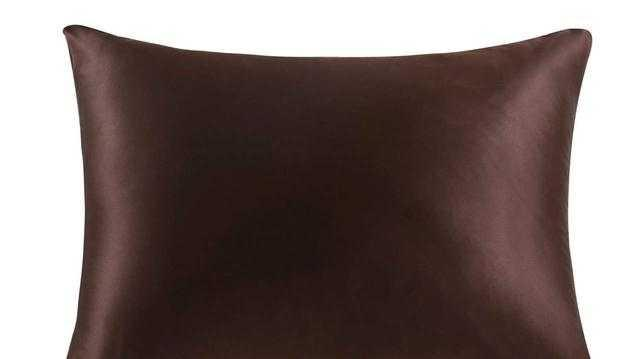pillow: (61, 22, 593, 358)
